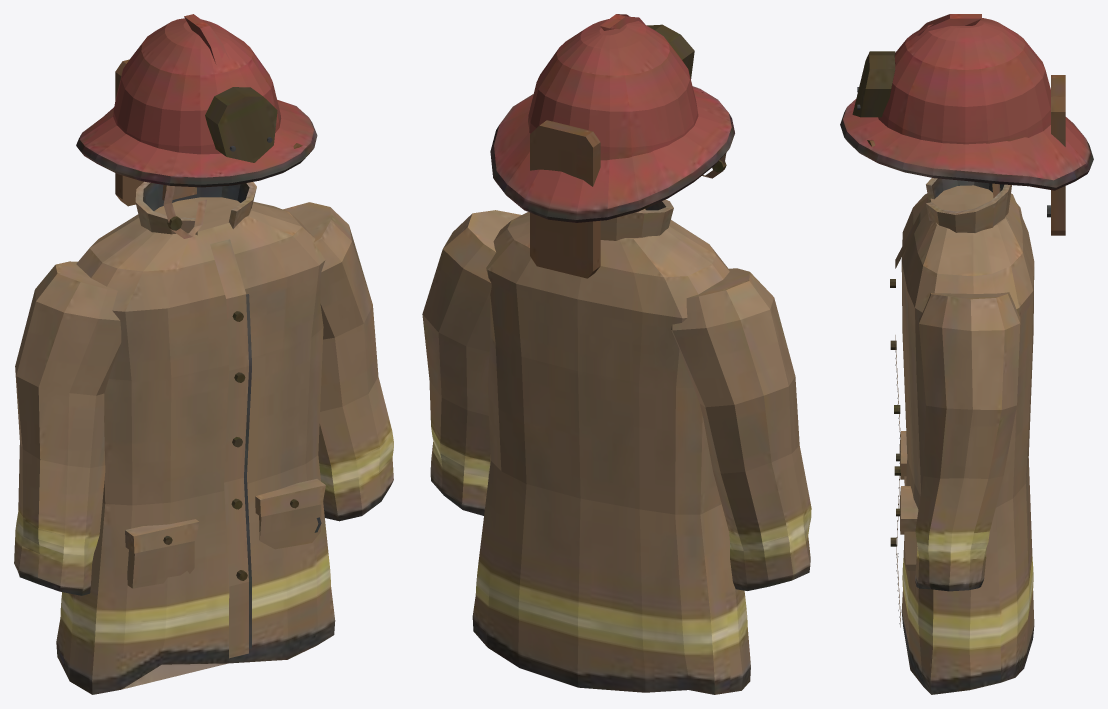
Rendered from O29_fire_helmet_and_coat.glb.
3 views of the same model, side by side, from view 1: azimuth 30°, elevation 25°; view 2: azimuth 150°, elevation 25°; view 3: azimuth 270°, elevation 25° (orthographic). The views are drawn at different scales.
Parts seen in each view (by area): view 1: Heavy turnout coat; view 2: Heavy turnout coat; view 3: Heavy turnout coat.
Boxes of the visible parts, x1,y1,x2,y2 form: Heavy turnout coat: [14, 14, 393, 694]; Heavy turnout coat: [422, 14, 811, 694]; Heavy turnout coat: [840, 14, 1093, 694].
Bounding box in the file's own units: 0.618 × 1 × 0.3688.
Materials: 10 (10 with a texture image).
